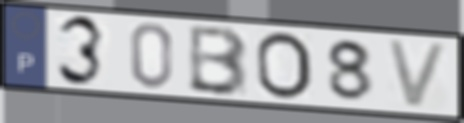0: (127, 21, 175, 91)
3: (52, 14, 115, 88)
8: (325, 37, 379, 103)
B: (185, 24, 251, 98)
O: (254, 30, 316, 102)
V: (383, 37, 452, 111)
